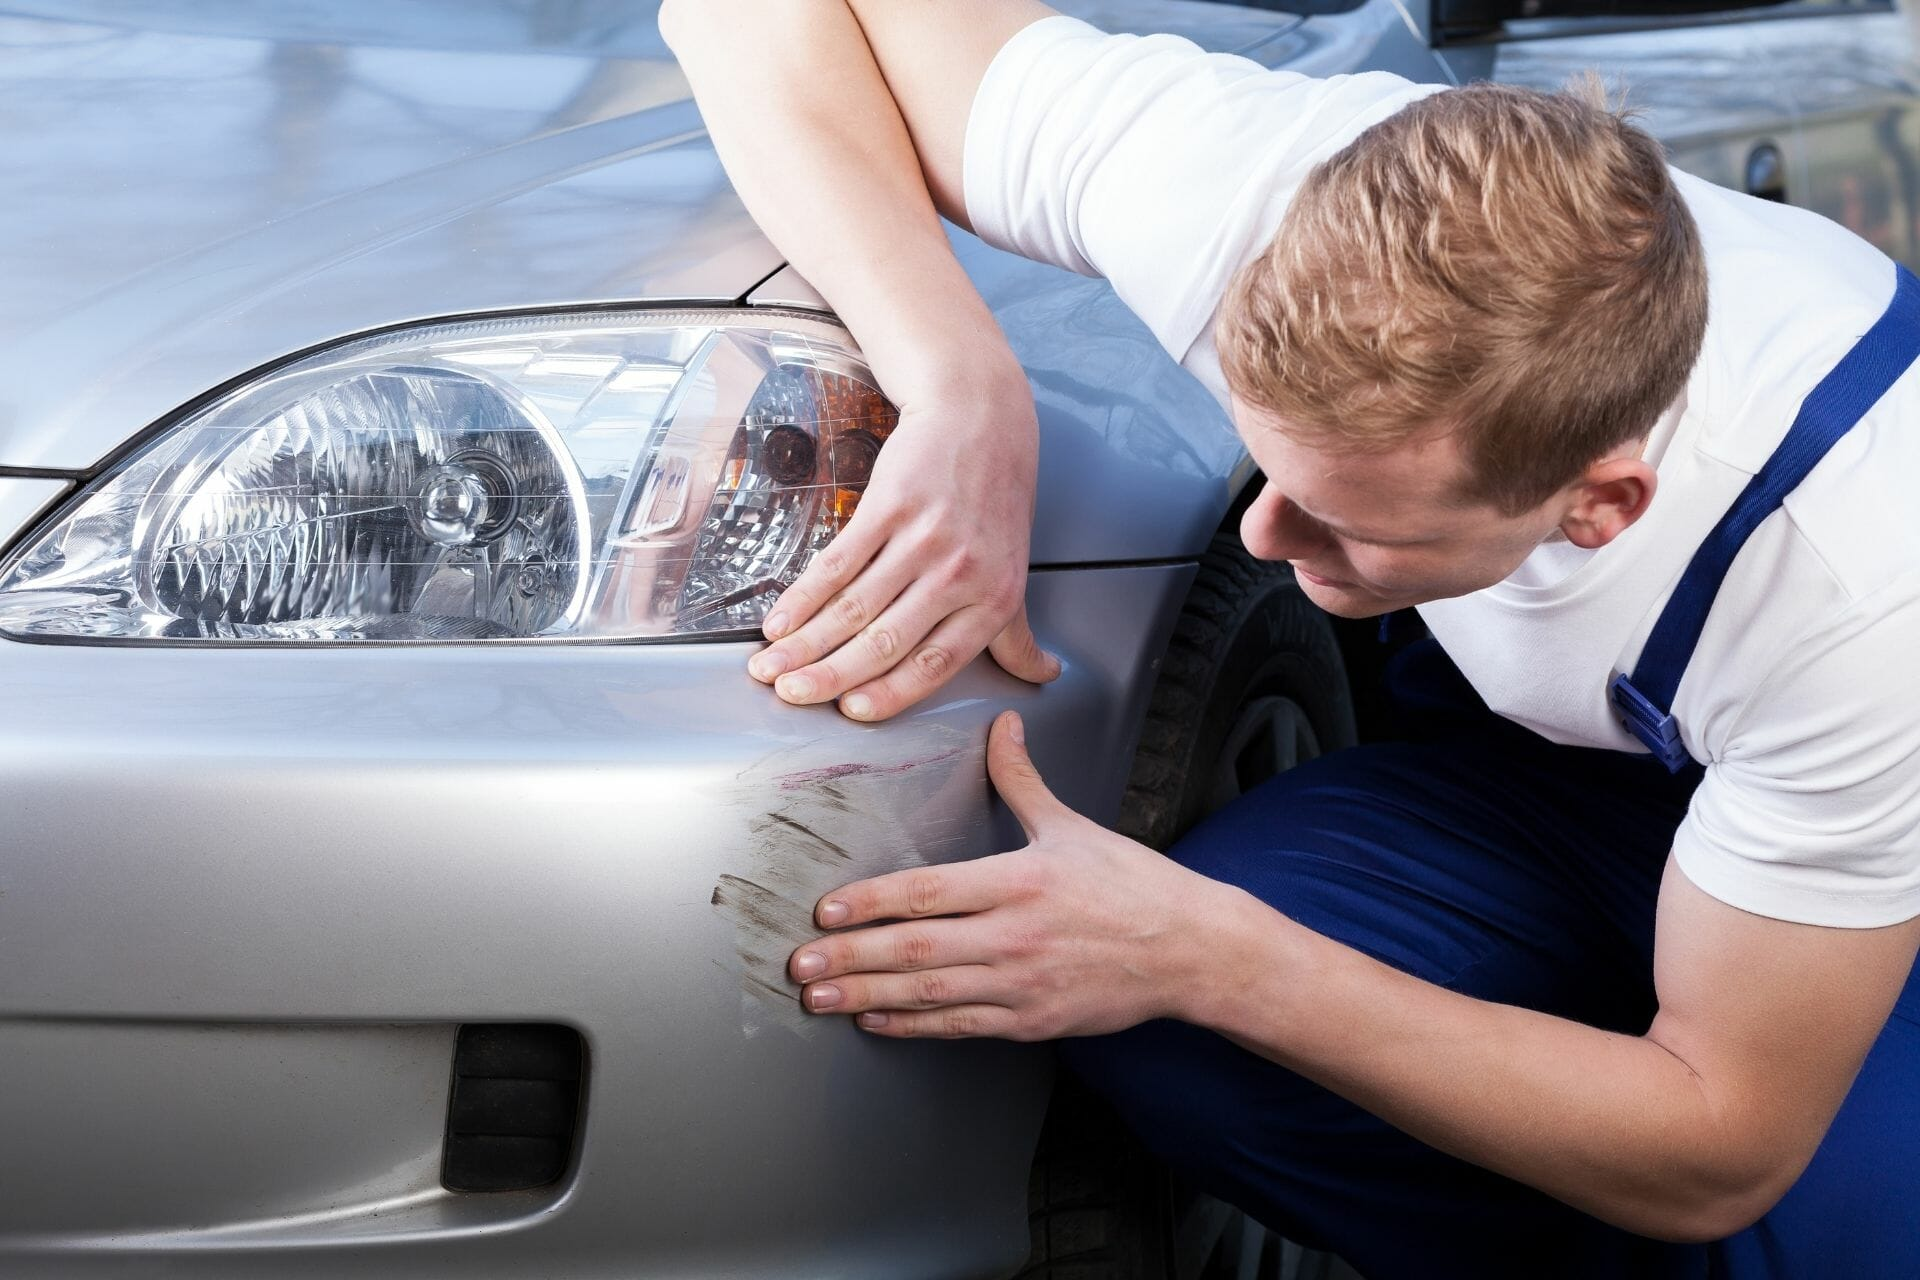scratch: (710, 744, 890, 1044)
